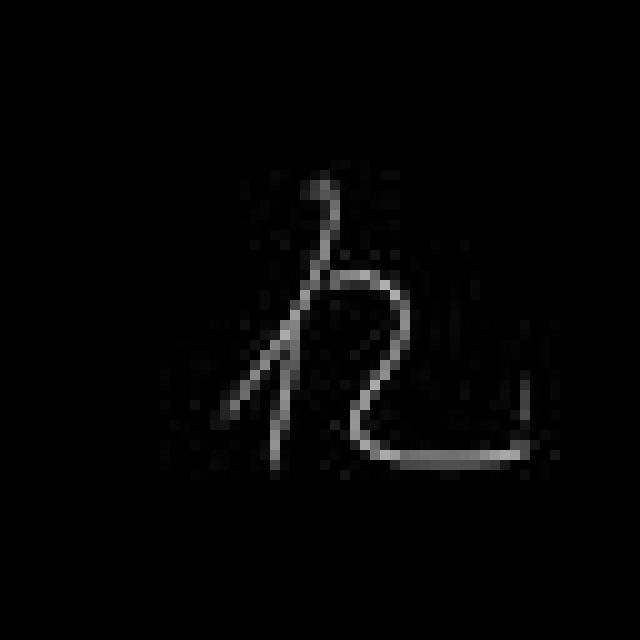100000 -a hundred thousand-: (216, 169, 537, 476)
